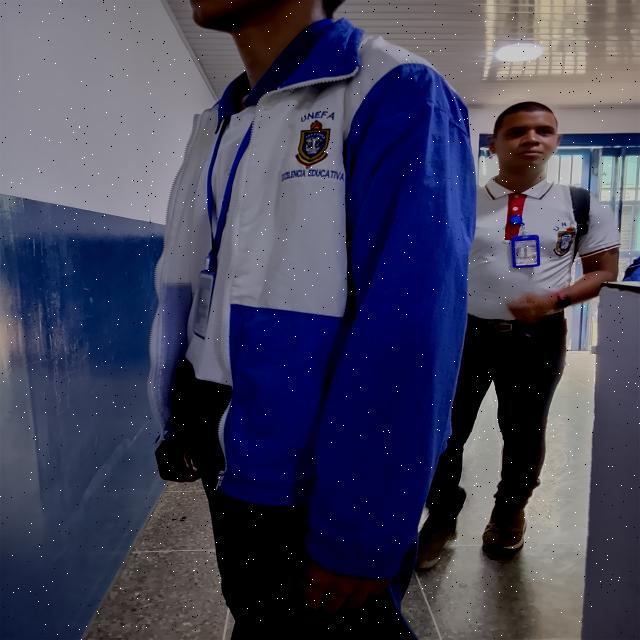carnet: (194, 276, 212, 334), (514, 239, 538, 266)
chaqueta_unefa: (144, 15, 480, 582)
uniforme_superior: (452, 174, 622, 321)
